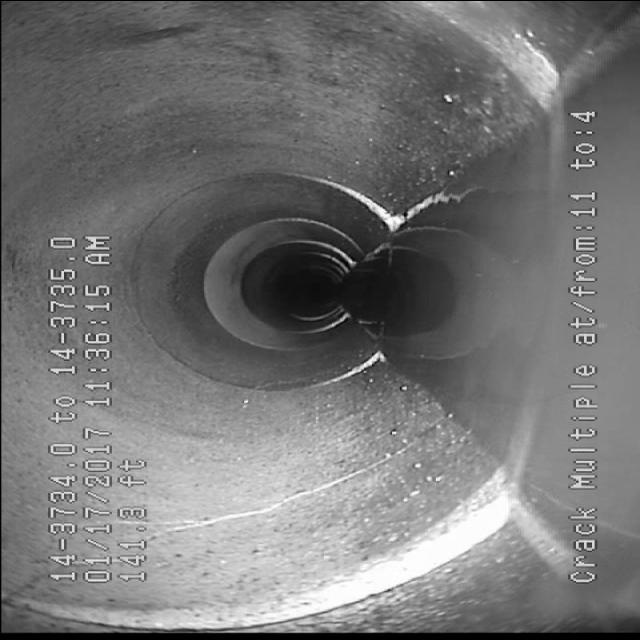Crack: (198, 440, 428, 536)
